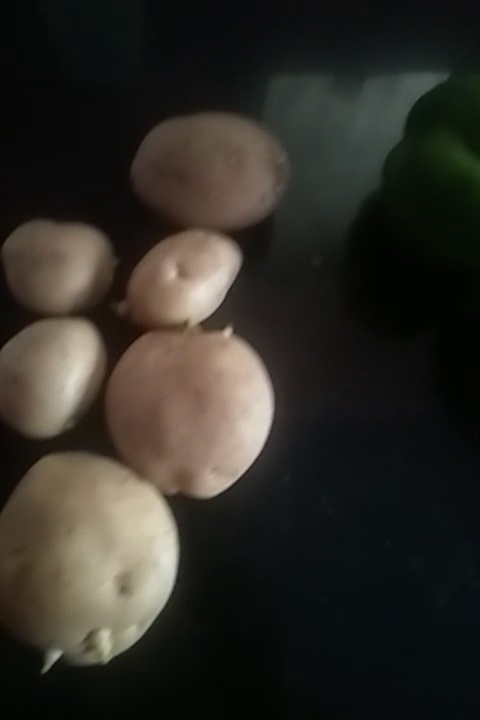capsicum: (367, 82, 480, 255)
potato: (3, 452, 202, 669), (114, 327, 279, 487), (120, 116, 289, 234), (1, 319, 110, 443), (98, 235, 255, 320), (1, 213, 120, 321)
